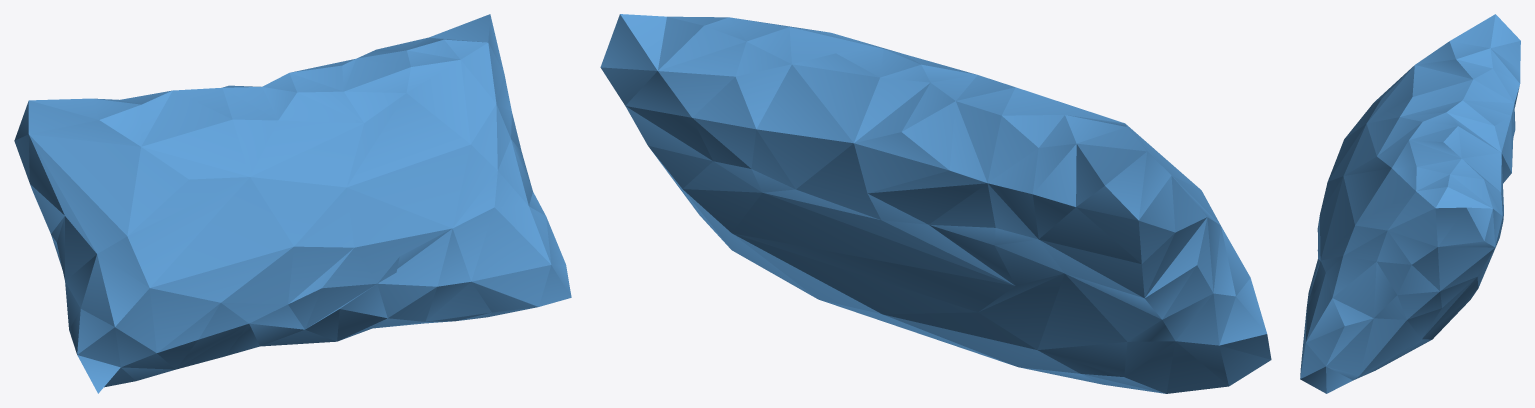
File: sofa_pillow3.fbx
3 views of the same model, side by side, from view 1: azimuth 30°, elevation 25°; view 2: azimuth 150°, elevation 25°; view 3: azimuth 270°, elevation 25° (orthographic). The views are drawn at different scales.
Parts seen in each view (by area): view 1: sofa_pillow3; view 2: sofa_pillow3; view 3: sofa_pillow3.
Boxes of the visible parts, box(x1,y1,x2,y2) form: sofa_pillow3: box(14, 14, 571, 393); sofa_pillow3: box(600, 14, 1271, 393); sofa_pillow3: box(1300, 14, 1520, 393).
Size of the model in its own units: 390 by 189 by 184.
